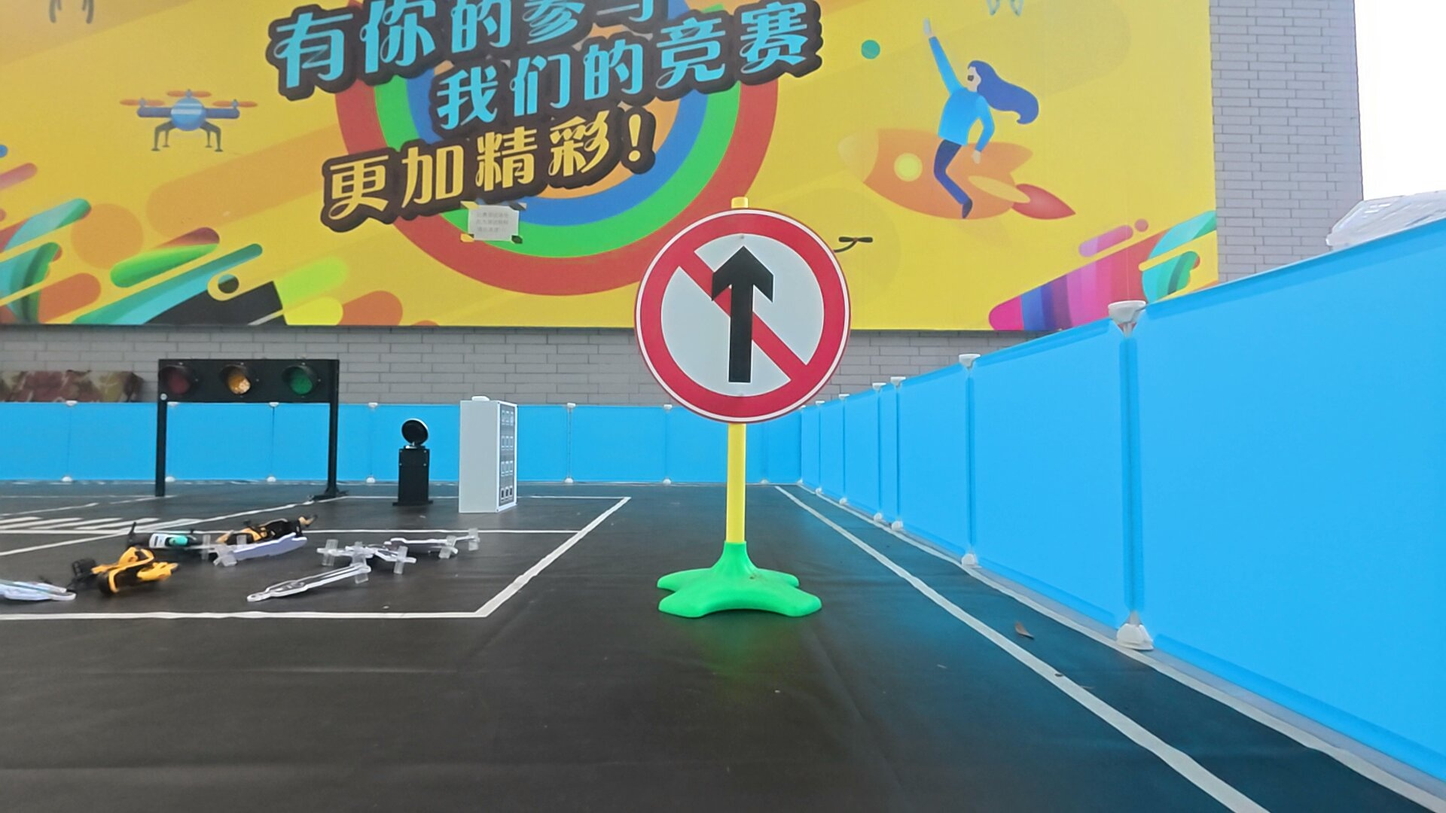obstacle: (632, 206, 851, 426)
